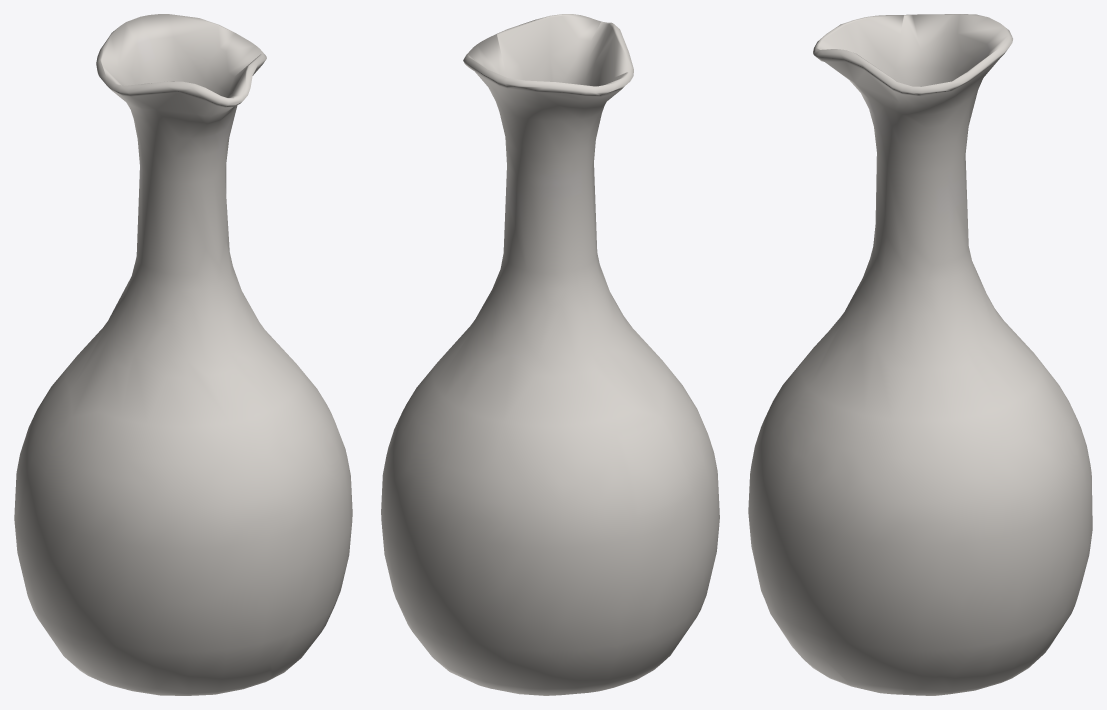
Rendered from ceramic_vase_01_1k.glb.
3 views of the same model, side by side, from view 1: azimuth 30°, elevation 25°; view 2: azimuth 150°, elevation 25°; view 3: azimuth 270°, elevation 25° (orthographic).
Visible parts, largest first — view 1: ceramic_vase_01; view 2: ceramic_vase_01; view 3: ceramic_vase_01.
Part boxes in pixels (x1,y1,x2,y2): ceramic_vase_01: (14,14,352,695); ceramic_vase_01: (381,14,719,695); ceramic_vase_01: (748,14,1092,695).
Size of the model in its own units: 0.2036 by 0.4003 by 0.2031.
1 material, 1 textured.
